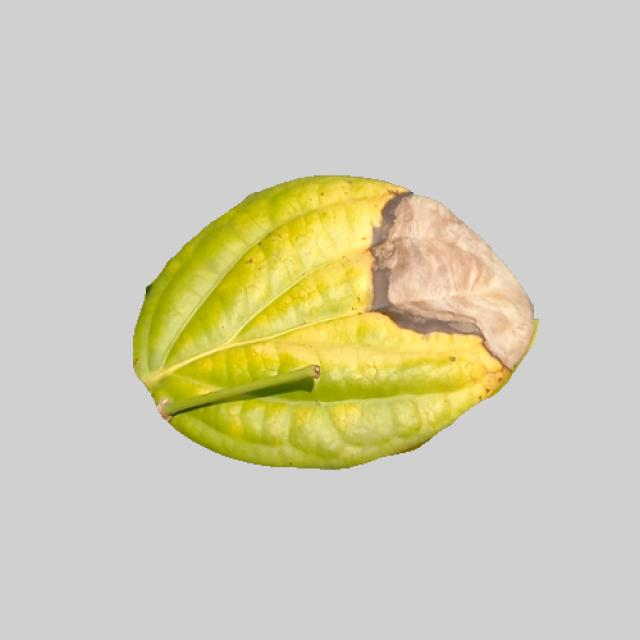leaf-blight: (119, 172, 549, 471)
